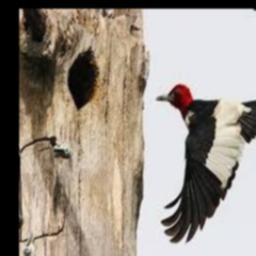Woodpecker: (157, 84, 256, 243)
